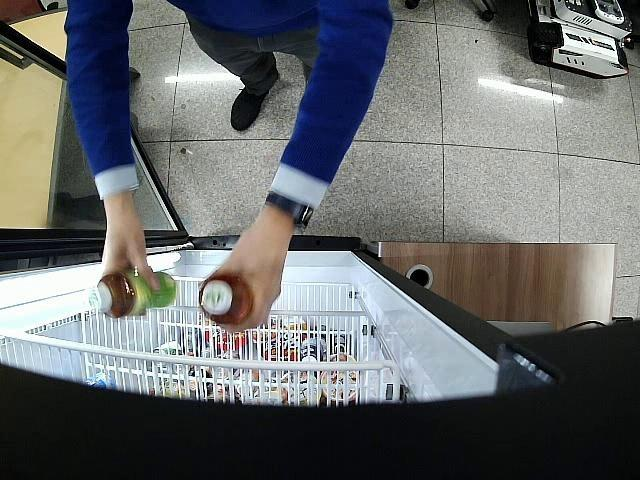19_17cha: (88, 271, 176, 318), (199, 274, 254, 323)
